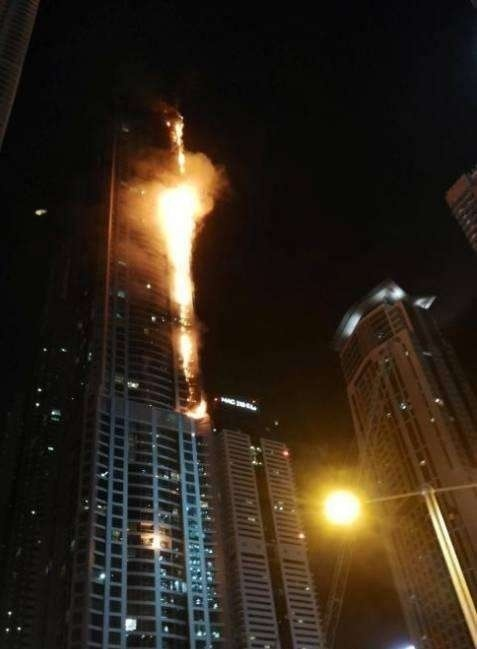fire: (152, 95, 219, 426)
